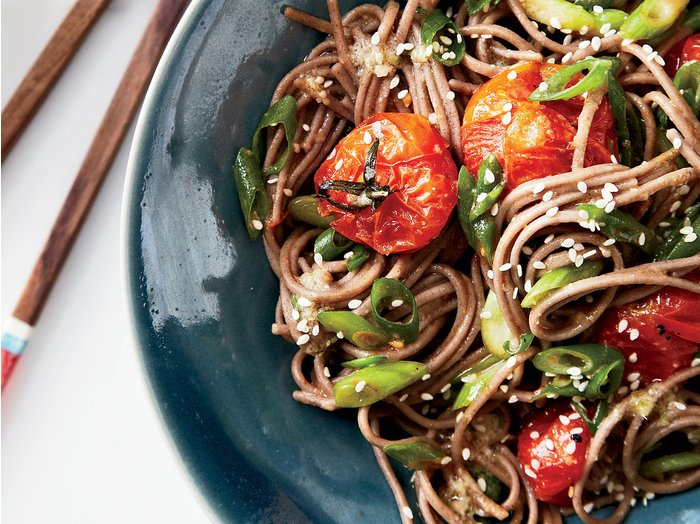Soba: (239, 3, 695, 519)
